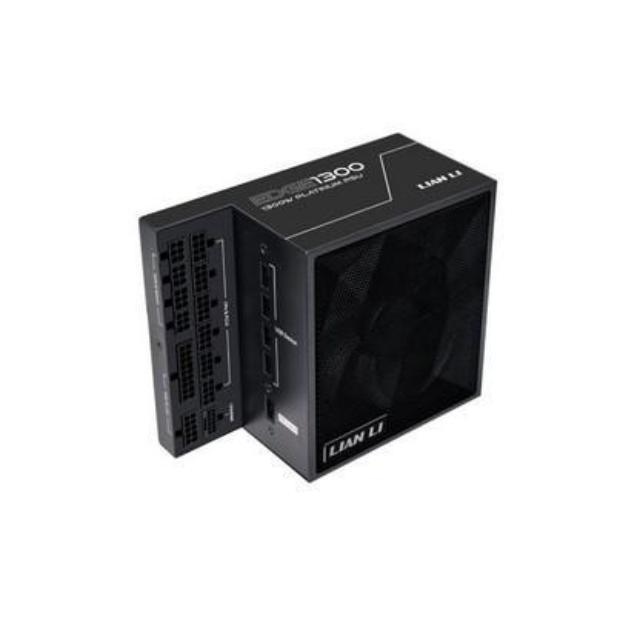PSU: (107, 105, 496, 510)
